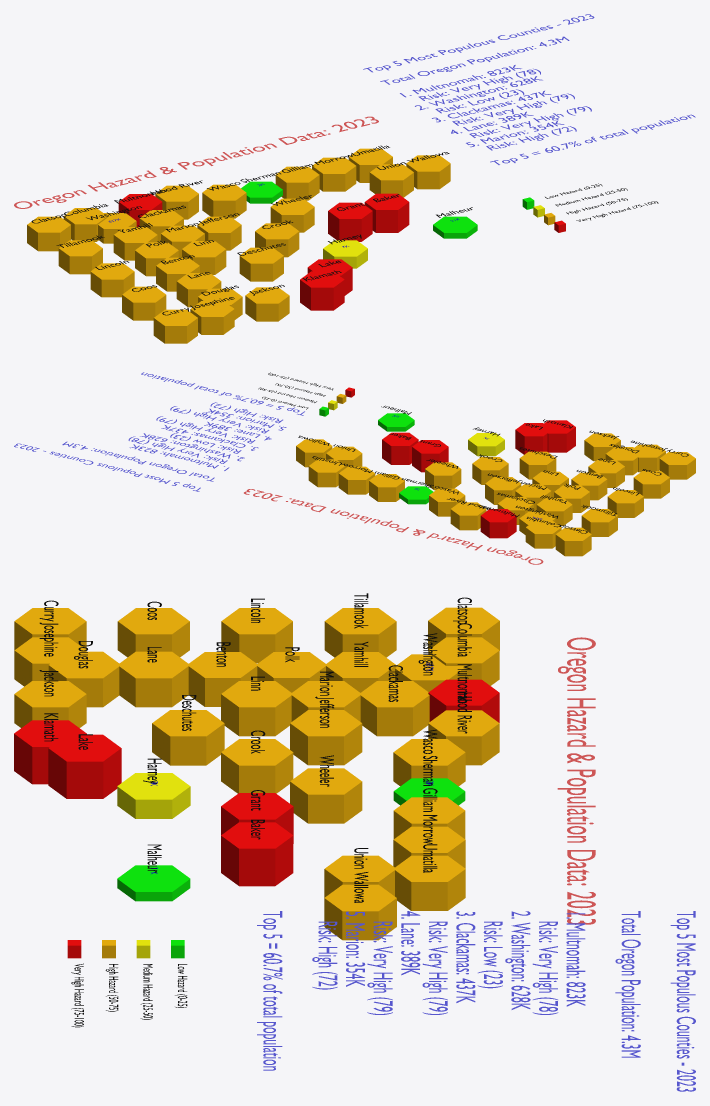
Rendered from OR_map.glb.
3 views of the same model, one above another, from view 1: azimuth 30°, elevation 25°; view 2: azimuth 150°, elevation 25°; view 3: azimuth 270°, elevation 25° (orthographic). The views are drawn at different scales.
Visible parts, largest first — view 1: TopPopulationDisplay, County_Klamath, County_Grant, County_Baker, County_Curry, County_Deschutes, County_Jackson, YearDisplay, County_Clatsop, County_Wasco, County_Coos, County_Tillamook (+26 smaller); view 2: TopPopulationDisplay, YearDisplay, County_Baker, County_Multnomah, County_Clatsop, County_Lake, County_Klamath, County_Grant, County_Wheeler, County_Coos, County_Curry, County_Lincoln (+26 smaller); view 3: TopPopulationDisplay, County_Baker, County_Lake, County_Deschutes, County_Wheeler, County_Jefferson, County_Lane, County_Umatilla, County_Linn, County_Crook, County_Wallowa, County_Clackamas (+26 smaller).
Part boxes in pixels (x1,y1,x2,y2): TopPopulationDisplay: [363, 14, 695, 164]; County_Klamath: [300, 271, 344, 310]; County_Grant: [328, 202, 372, 241]; County_Baker: [364, 193, 409, 232]; County_Curry: [153, 309, 197, 343]; County_Deschutes: [239, 247, 283, 281]; County_Jackson: [245, 287, 289, 321]; YearDisplay: [14, 116, 378, 208]; County_Clatsop: [27, 216, 70, 251]; County_Wasco: [202, 184, 246, 218]; County_Coos: [122, 286, 166, 320]; County_Tillamook: [58, 240, 102, 274]; TopPopulationDisplay: [14, 372, 304, 491]; YearDisplay: [244, 489, 543, 564]; County_Baker: [382, 432, 418, 464]; County_Multnomah: [480, 509, 516, 538]; County_Clatsop: [555, 527, 591, 556]; County_Lake: [515, 423, 551, 454]; County_Klamath: [540, 420, 575, 452]; County_Grant: [412, 440, 448, 472]; County_Wheeler: [425, 462, 461, 490]; County_Coos: [633, 471, 669, 498]; County_Curry: [659, 452, 695, 479]; County_Lincoln: [607, 490, 643, 517]; TopPopulationDisplay: [257, 911, 695, 1091]; County_Baker: [221, 822, 293, 886]; County_Lake: [48, 734, 121, 798]; County_Deschutes: [152, 710, 224, 765]; County_Wheeler: [290, 768, 362, 823]; County_Jefferson: [290, 710, 362, 765]; County_Lane: [118, 651, 189, 707]; County_Umatilla: [394, 855, 465, 910]; County_Linn: [221, 681, 292, 736]; County_Crook: [221, 739, 293, 793]; County_Wallowa: [324, 884, 396, 940]; County_Clackamas: [359, 681, 429, 736].
Bounding box in the file's own units: 34.63 × 1.59 × 19.79.
